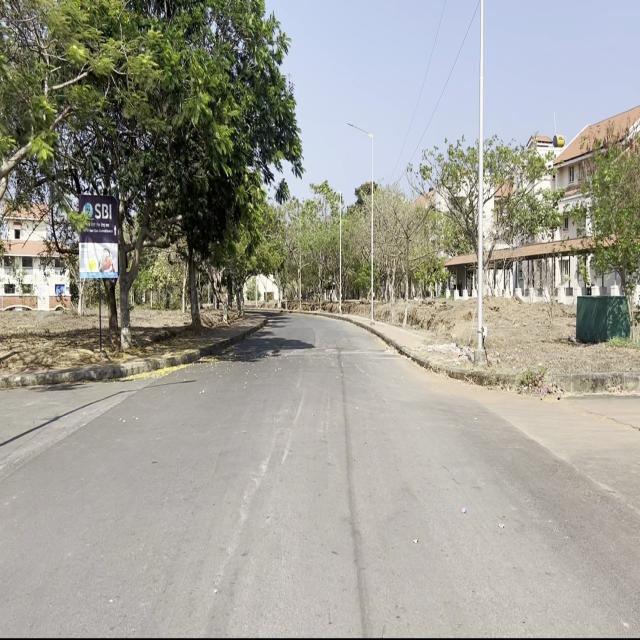Road: (3, 309, 634, 632)
